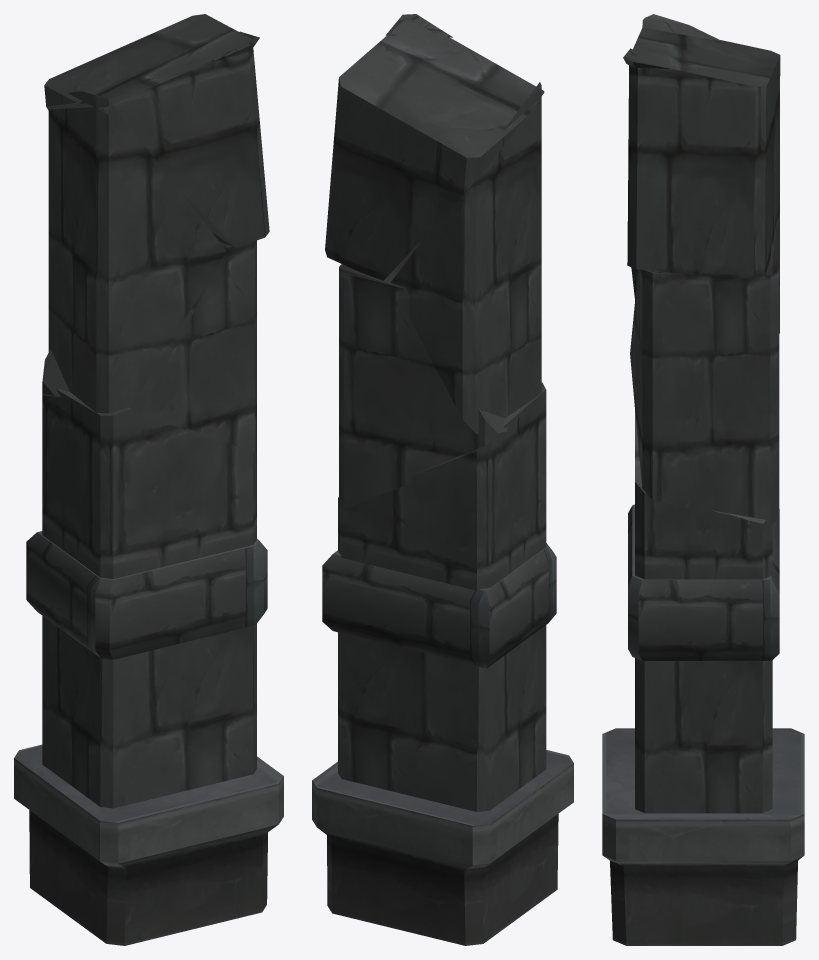
Rendered from pillar_breaktype001.FBX.
The picture shows the model from 3 angles, left to right: view 1: azimuth 30°, elevation 25°; view 2: azimuth 150°, elevation 25°; view 3: azimuth 270°, elevation 25°; orthographic projection. The views are drawn at different scales.
Parts seen in each view (by area): view 1: pillar_breaktype001; view 2: pillar_breaktype001; view 3: pillar_breaktype001.
Part boxes in pixels (x1,y1,x2,y2): pillar_breaktype001: (14,14,283,945); pillar_breaktype001: (312,14,573,945); pillar_breaktype001: (602,14,804,945).
Bounding box in the file's own units: 221 × 967 × 201.
1 material, 1 textured.
